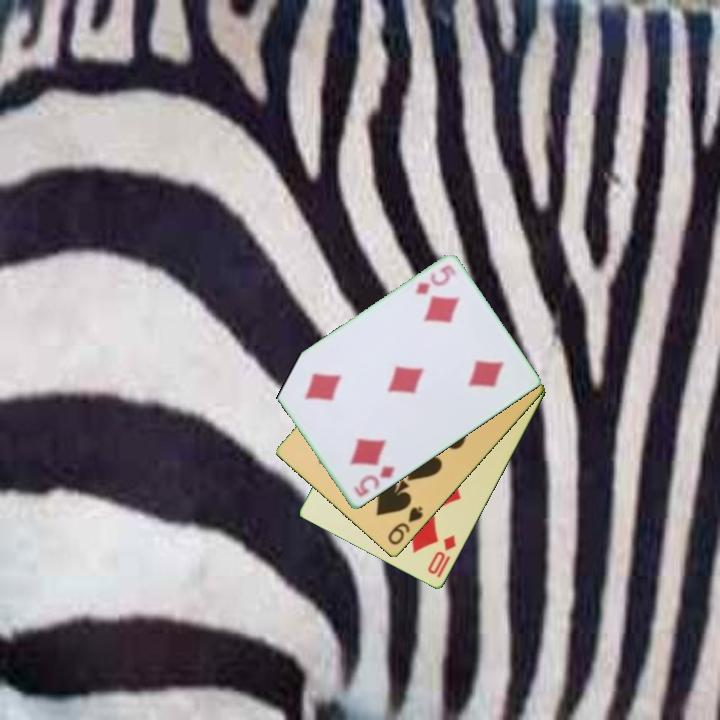10d: (424, 532, 459, 581)
5d: (350, 462, 397, 500), (412, 261, 459, 298)
9s: (384, 503, 426, 549)
